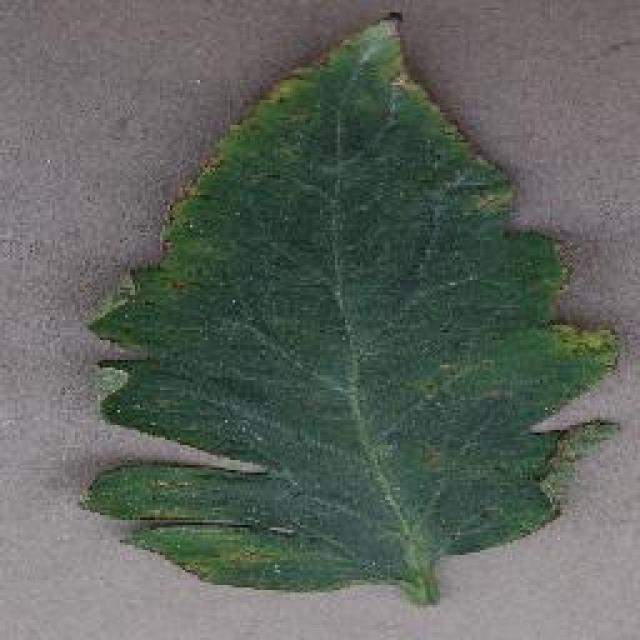Tomato bacterial spot leaf: (105, 25, 613, 593)
